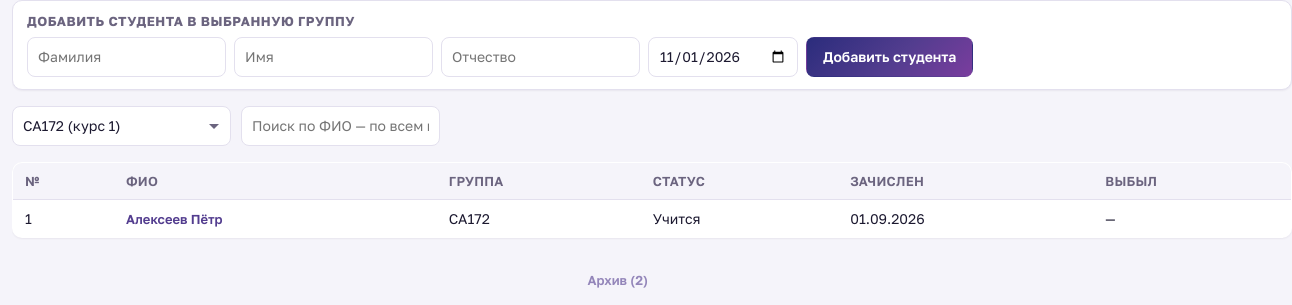
it: StudentsTab › поиск по ФИО идёт по всем группам, блокирует выбор группы; пустой результат — своё сообщение
Expected: the link "Алексеев Пётр" is shown, x1=122 y1=209 x2=226 y2=229
In the field with placeholder "Поиск по ФИО — по всем группам": point(340, 126) x1=241 y1=106 x2=440 y2=146, type "захаров"
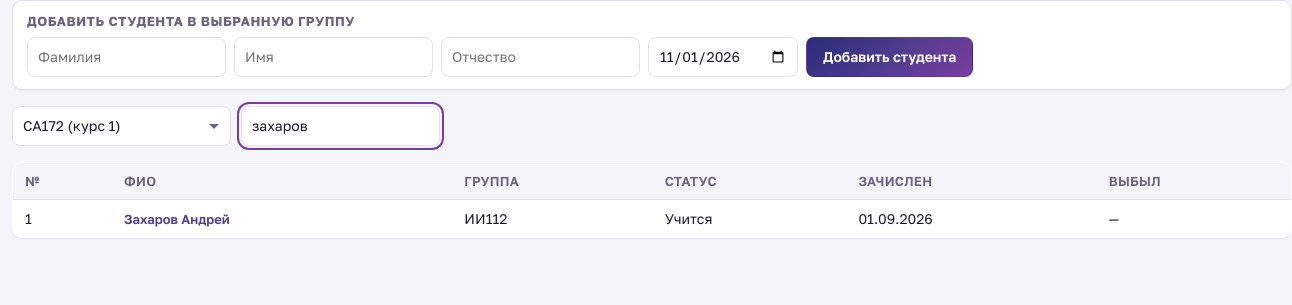
Expected: the dropdown is disabled, x1=12 y1=106 x2=231 y2=146
Now the link "Захаров Андрей" is shown, box x1=120 y1=209 x2=234 y2=229
Now the link "Алексеев Пётр" is gone
Replace the text in the field with placeholder "Поиск по ФИО — по всем группам" with "нет такого": point(340, 126) x1=241 y1=106 x2=440 y2=146
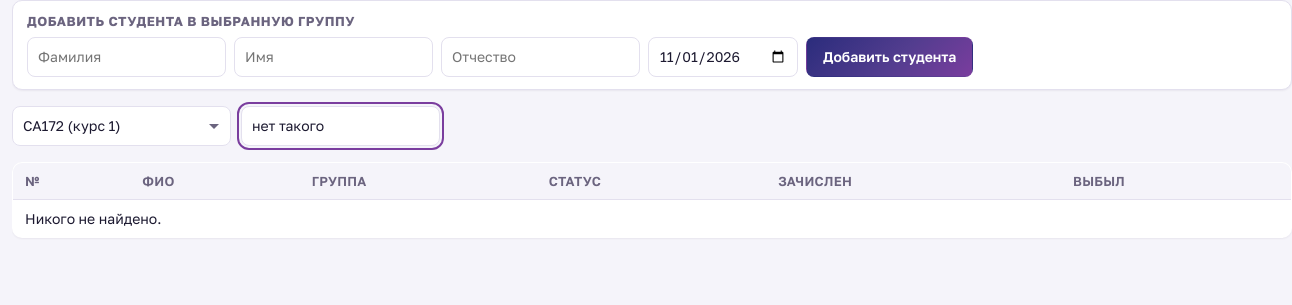
Now the text "Никого не найдено." is shown, box x1=12 y1=200 x2=1291 y2=238
